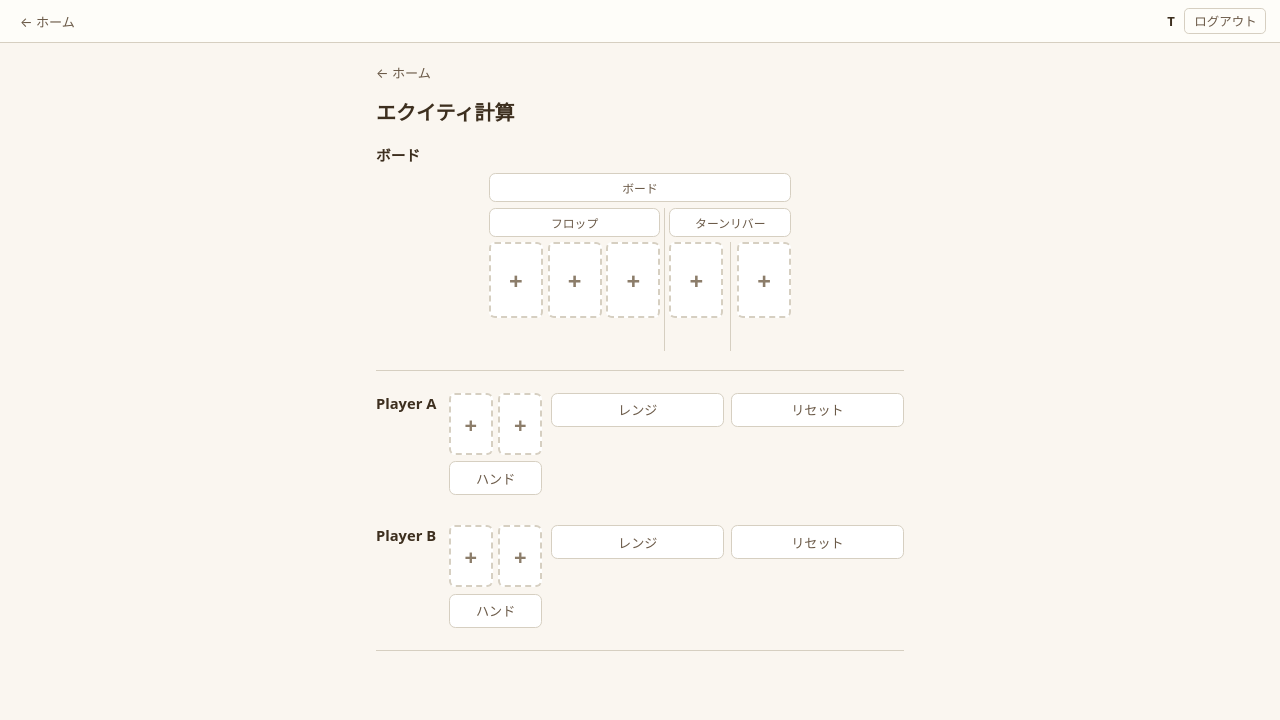
Test: EquityCalculatorPage (UI) › レンジモーダルが開く
Click the 1st button "レンジ".
click(638, 410)  # box [551,393,724,427]
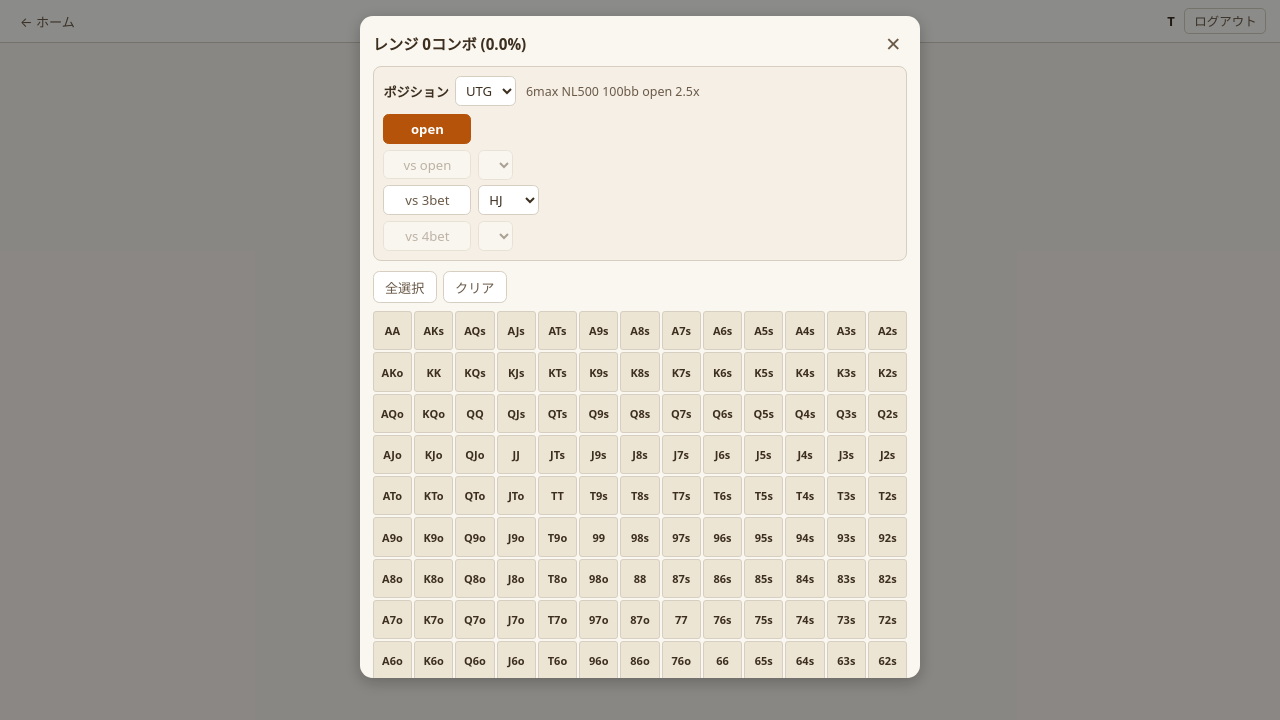
Now the dialog named "レンジ選択" is shown
